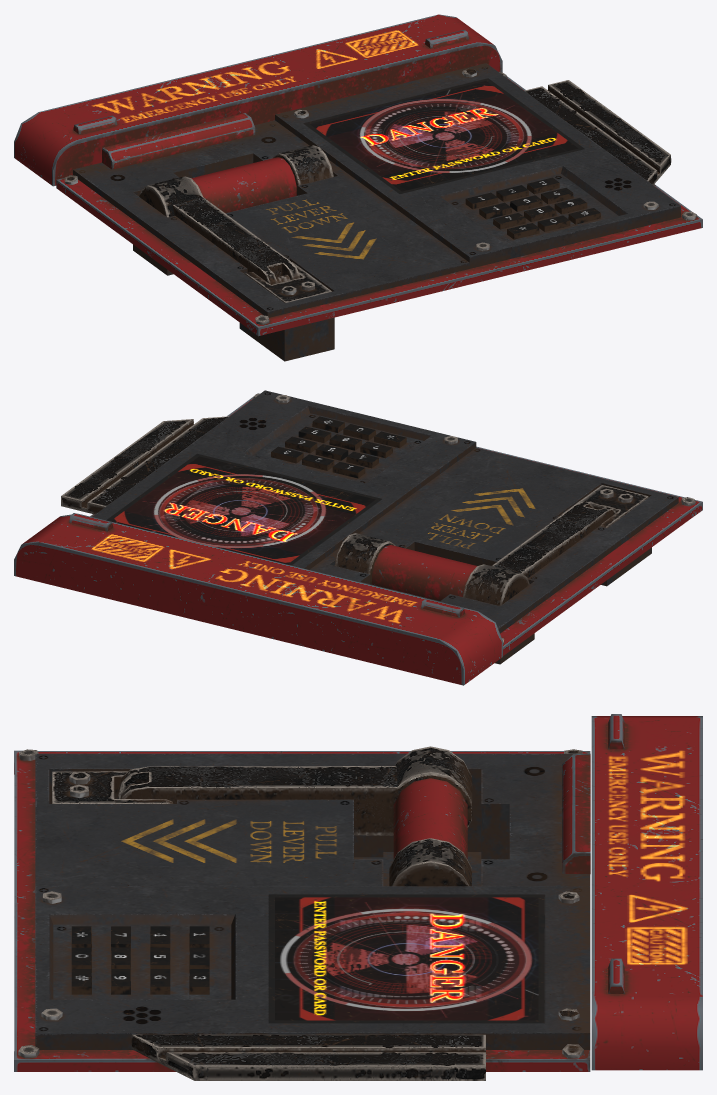
The picture shows the model from 3 angles, top to bottom: view 1: azimuth 30°, elevation 25°; view 2: azimuth 150°, elevation 25°; view 3: azimuth 270°, elevation 25°; orthographic projection. The views are drawn at different scales.
Visible parts, largest first — view 1: body_low, body_small_low, knob_low, kart_low, big_low, detail_low; view 2: body_low, body_small_low, knob_low, kart_low, detail_low, small_1_low, small_2_low; view 3: body_low, body_small_low, knob_low, kart_low, big_low, detail_low, small_2_low, small_1_low.
Boxes of the visible parts, x1=… form: body_low: x1=56, y1=63, x2=702, y2=361; body_small_low: x1=14, y1=14, x2=502, y2=186; knob_low: x1=139, y1=145, x2=333, y2=284; kart_low: x1=524, y1=80, x2=671, y2=184; big_low: x1=102, y1=113, x2=255, y2=169; detail_low: x1=244, y1=262, x2=331, y2=303; body_low: x1=90, y1=390, x2=702, y2=664; body_small_low: x1=14, y1=513, x2=502, y2=685; knob_low: x1=334, y1=501, x2=616, y2=605; kart_low: x1=61, y1=416, x2=228, y2=514; detail_low: x1=561, y1=485, x2=648, y2=527; small_1_low: x1=69, y1=513, x2=113, y2=531; small_2_low: x1=421, y1=599, x2=465, y2=617; body_low: x1=14, y1=750, x2=590, y2=1071; body_small_low: x1=591, y1=716, x2=702, y2=1070; knob_low: x1=118, y1=746, x2=472, y2=886; kart_low: x1=131, y1=1034, x2=485, y2=1080; big_low: x1=562, y1=753, x2=590, y2=873; detail_low: x1=51, y1=771, x2=173, y2=803; small_2_low: x1=608, y1=714, x2=624, y2=749; small_1_low: x1=608, y1=958, x2=624, y2=993.
Bounding box in the file's own units: 0.1496 × 0.0275 × 0.1308.
2 materials, 2 textured.
